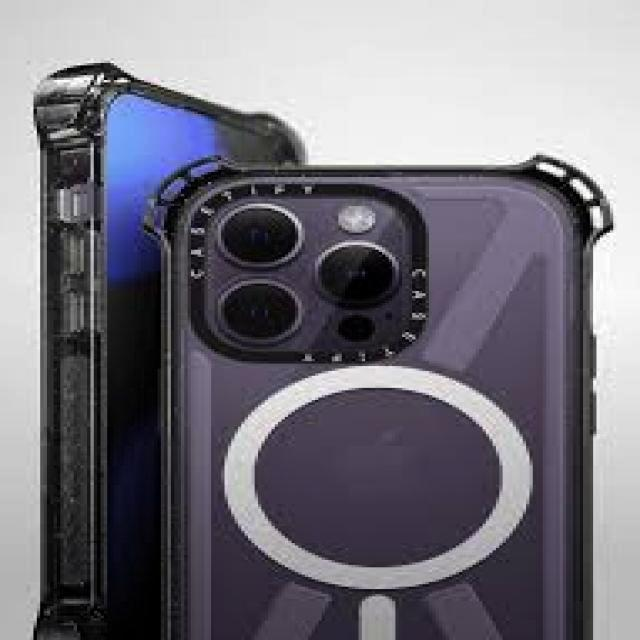lens: (212, 200, 407, 347)
phone: (147, 155, 600, 640)
